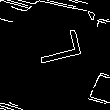L_W: (24, 33, 81, 76)
